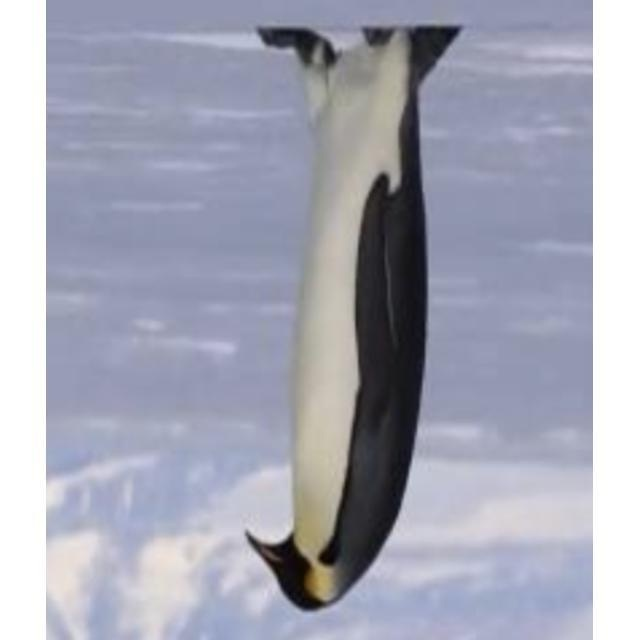penguin: (244, 26, 465, 611)
